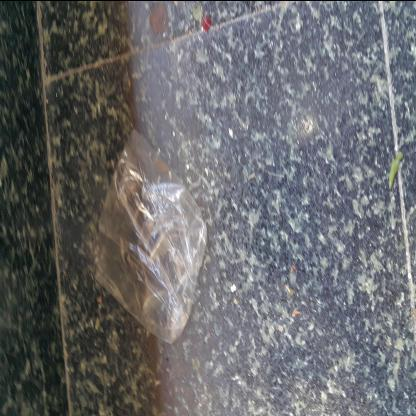plastik: (127, 209, 345, 326)
